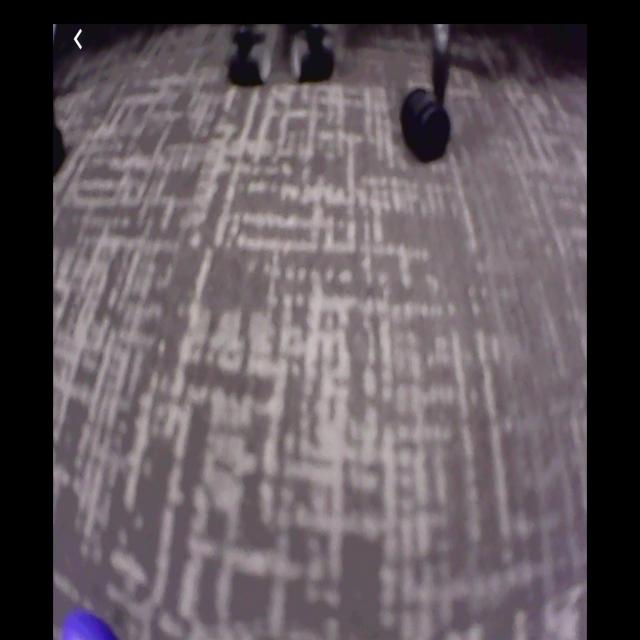ball: (63, 610, 118, 640)
